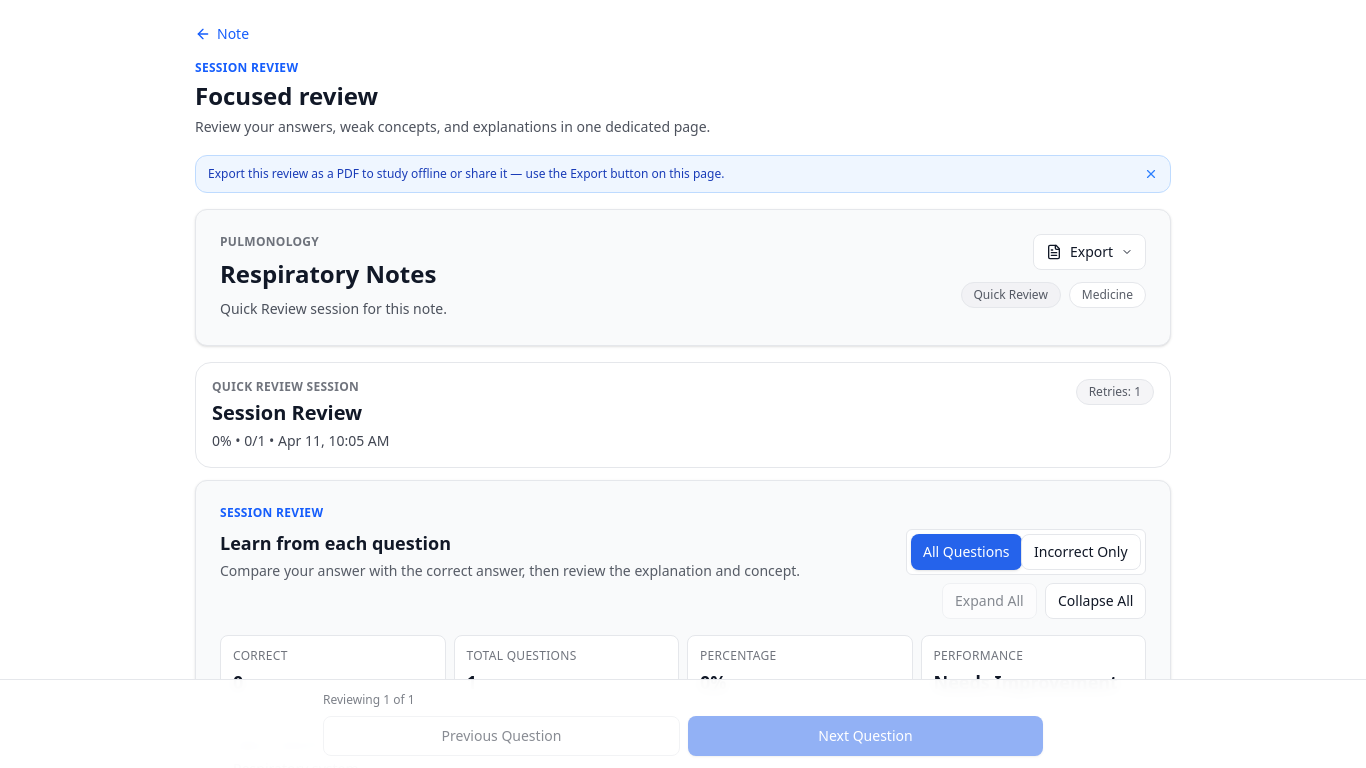
Test case: NoteSessionReviewPageClient › shows a toast and skips PDF generation when Mistakes is selected but there are no mistakes
Click the button "Export" at (1089, 252), box [1033, 234, 1146, 270]
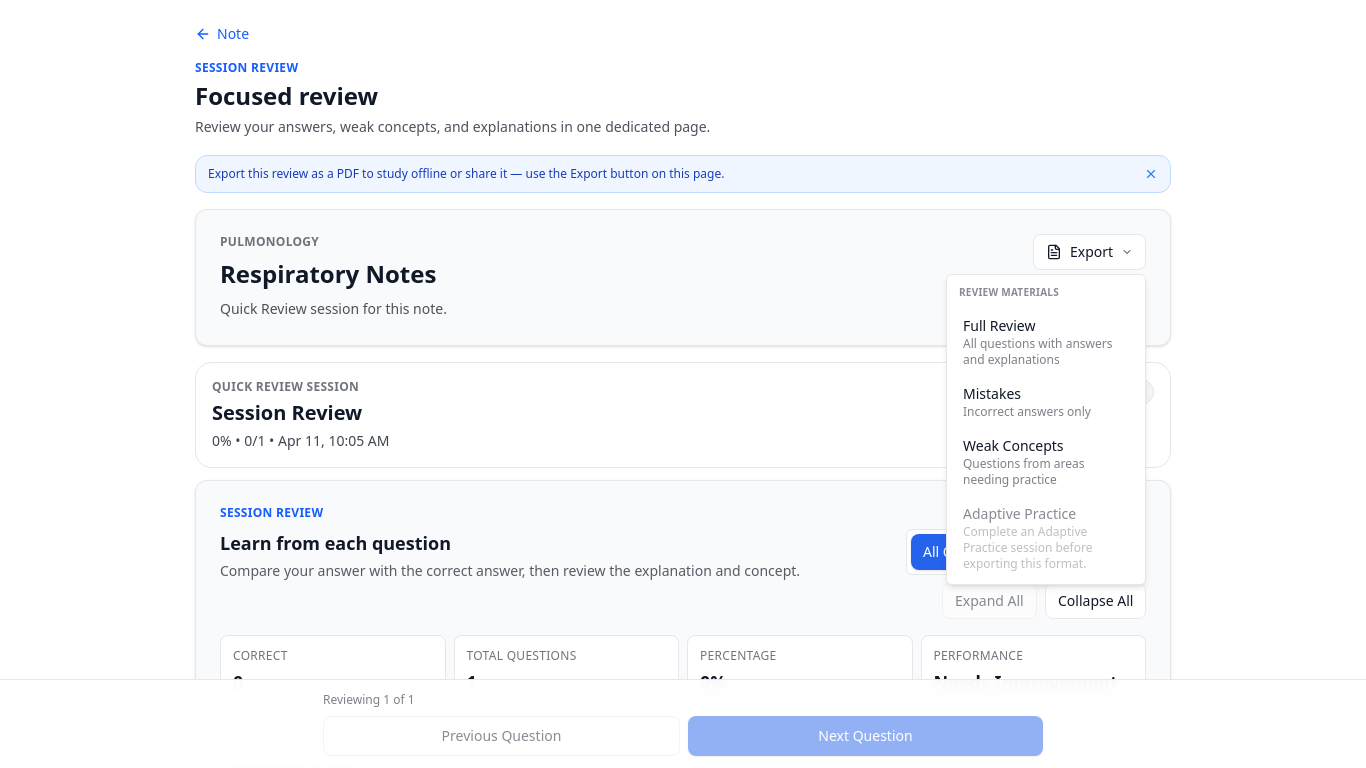
Click the button "Mistakes Incorrect answers only" at (1046, 402), box [951, 376, 1141, 428]
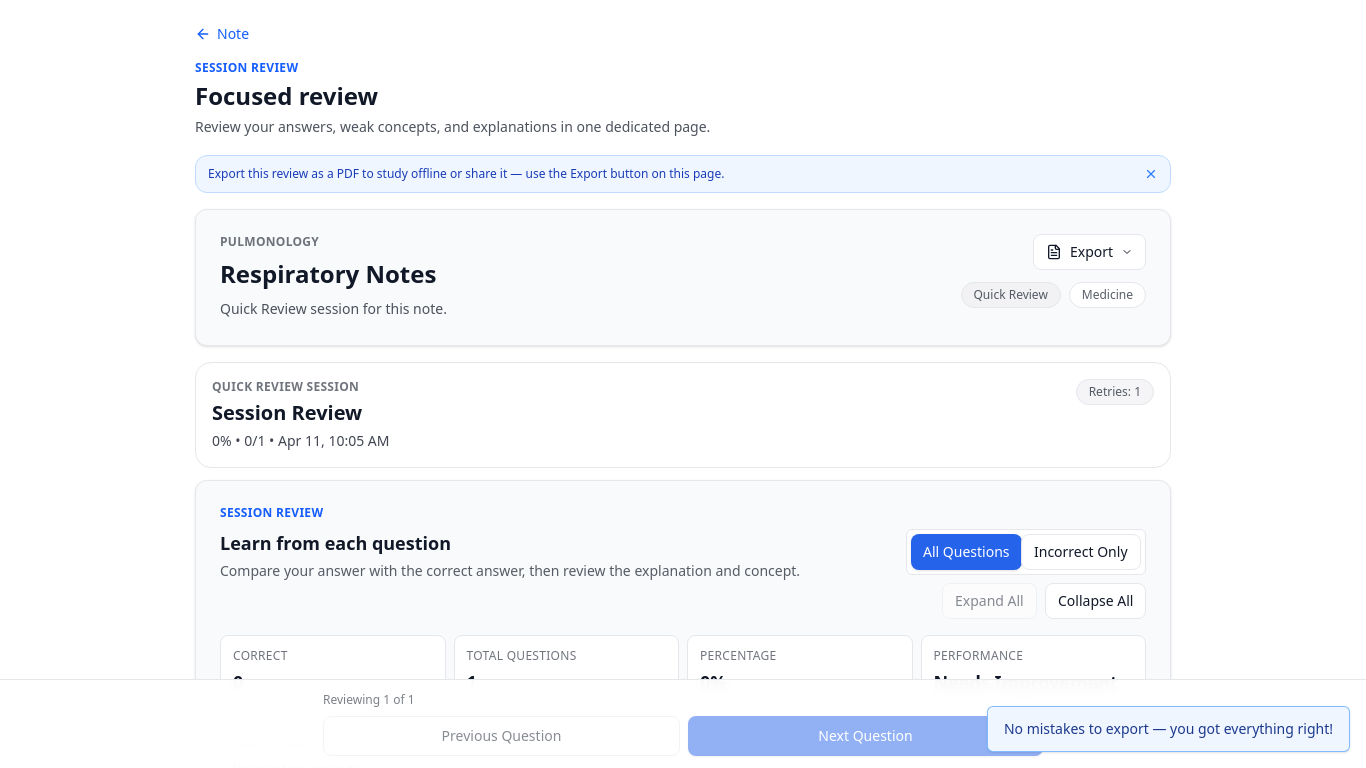
Expected: the text "No mistakes to export — you got everything right!" is shown, [987, 706, 1350, 752]
